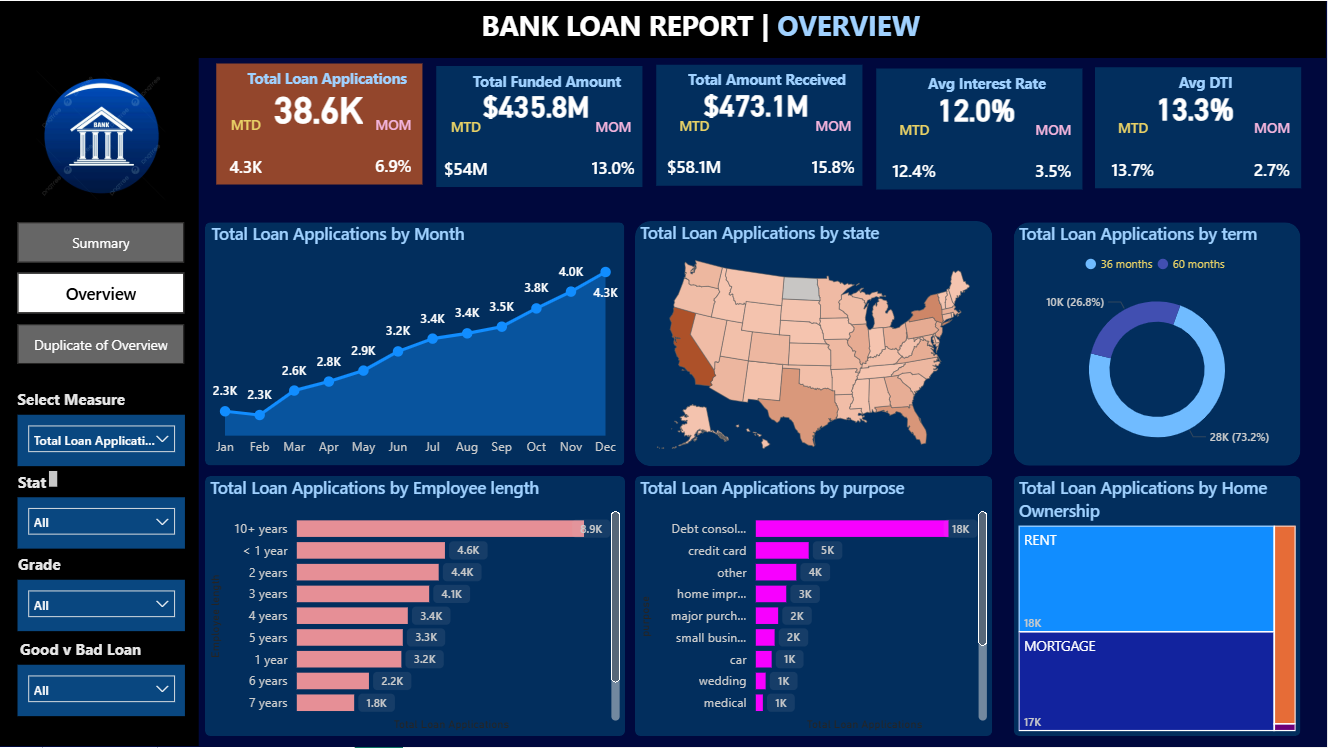

The dashboard page shown, as its layout file describes it:
{"tool":"powerbi","page":{"name":"Overview","canvas":[1280,720],"ordinal":1},"visuals":[{"type":"shape","box":[209.2,60.6,199.1,116.9],"z":0,"group":"g1"},{"type":"shape","box":[633.4,62.1,199.1,116.9],"z":0,"group":"g3"},{"type":"shape","box":[421.6,63.5,199.1,116.9],"z":0,"group":"g2"},{"type":"shape","box":[1056.7,64.2,199.1,116.9],"z":0,"group":"g5"},{"type":"shape","box":[845.2,65.4,199.1,116.9],"z":0,"group":"g4"},{"type":"shape","box":[197.9,213.5,405,235],"z":0},{"type":"shape","box":[0,0,1279.7,55],"z":1000},{"type":"cardVisual","fields":{"Data":["financial_loan.Total Loan Application"]},"box":[235.2,60.6,144.3,76.5],"z":1000,"group":"g1"},{"type":"cardVisual","fields":{"Data":["financial_loan.Total Amount Received"]},"box":[634.4,60.6,190.4,72.1],"z":1000,"group":"g3"},{"type":"cardVisual","fields":{"Data":["financial_loan.Total Funded Amount"]},"box":[422.6,62,190.4,72.1],"z":1000,"group":"g2"},{"type":"cardVisual","fields":{"Data":["financial_loan.Avg DTI"]},"box":[1057.7,62.7,190.4,72.1],"z":1000,"group":"g5"},{"type":"cardVisual","fields":{"Data":["financial_loan.AVG Interest Rate"]},"box":[846.2,63.9,190.4,72.1],"z":1000,"group":"g4"},{"type":"shape","box":[0,54.8,191.9,665.1],"z":2000},{"type":"textbox","box":[223.6,60.6,184.7,30.3],"z":2000,"group":"g1"},{"type":"textbox","box":[647.8,62.1,184.7,30.3],"z":2000,"group":"g3"},{"type":"textbox","box":[436,63.5,184.7,30.3],"z":2000,"group":"g2"},{"type":"textbox","box":[1071.1,64.2,184.7,30.3],"z":2000,"group":"g5"},{"type":"textbox","box":[859.6,65.4,184.7,30.3],"z":2000,"group":"g4"},{"type":"textbox","box":[459.7,0,480.2,47.1],"z":3000},{"type":"cardVisual","title":"MTD ","fields":{"Data":["financial_loan.MTD Loan Applications"]},"box":[199.1,109.7,76.5,77.9],"z":3000,"group":"g1"},{"type":"cardVisual","title":"MTD ","fields":{"Data":["financial_loan.MTD Total Amount Received"]},"box":[623.9,111.8,92.9,77.2],"z":3000,"group":"g3"},{"type":"cardVisual","title":"MTD ","fields":{"Data":["financial_loan.MTD Funded Amount"]},"box":[411.5,112.5,76.5,77.9],"z":3000,"group":"g2"},{"type":"cardVisual","title":"MTD ","fields":{"Data":["financial_loan.MTD Avg DTI"]},"box":[1047.2,113.9,92.9,77.2],"z":3000,"group":"g5"},{"type":"cardVisual","title":"MTD ","fields":{"Data":["financial_loan.MTD Avg Int Rate"]},"box":[835.7,115.1,92.9,77.2],"z":3000,"group":"g4"},{"type":"group","id":"g1","title":"Group 1","box":[199.1,60.6,219.3,127],"z":4000},{"type":"cardVisual","title":"MOM","fields":{"Data":["financial_loan.MOM Loan Application"]},"box":[341.9,109.7,76.5,66.4],"z":4000,"group":"g1"},{"type":"cardVisual","title":"MOM","fields":{"Data":["financial_loan.MOM Total Amount Received"]},"box":[766.1,111.1,76.5,66.4],"z":4000,"group":"g3"},{"type":"cardVisual","title":"MOM","fields":{"Data":["financial_loan.MOM Total Funded Amount"]},"box":[554.3,112.5,76.5,66.4],"z":4000,"group":"g2"},{"type":"cardVisual","title":"MOM","fields":{"Data":["financial_loan.MOM Avg DTI"]},"box":[1189.4,113.2,76.5,66.4],"z":4000,"group":"g5"},{"type":"cardVisual","title":"MOM","fields":{"Data":["financial_loan.MOM Avg Interest Rate"]},"box":[977.9,114.4,76.5,66.4],"z":4000,"group":"g4"},{"type":"group","id":"g2","title":"Group 1","box":[411.5,62,219.3,128.4],"z":5000},{"type":"group","id":"g3","title":"Group 1","box":[623.9,60.6,218.7,128.4],"z":6000},{"type":"group","id":"g4","title":"Group 1","box":[835.7,63.9,218.4,127.9],"z":7000},{"type":"group","id":"g5","title":"Group 1","box":[1047.2,62.7,218.4,127.9],"z":8000},{"type":"slicer","fields":{"Values":["financial_loan.address_state"]},"box":[16.9,479,161.7,49.5],"z":9000},{"type":"textbox","box":[9.7,448.8,50.7,30.2],"z":10000},{"type":"slicer","fields":{"Values":["financial_loan.grade"]},"box":[16.9,558.6,161.7,49.5],"z":11000},{"type":"slicer","fields":{"Values":["financial_loan.Good v Bad Loan"]},"box":[16.9,640.6,161.7,49.5],"z":12000},{"type":"textbox","box":[7.2,528.4,61.5,30.2],"z":13000},{"type":"textbox","box":[7.2,610.5,141.2,30.2],"z":14000},{"type":"areaChart","fields":{"Y":["financial_loan.Total Loan Applications"],"Category":["Date Table.Month"]},"box":[199.1,213.5,404,235.2],"z":15000},{"type":"slicer","fields":{"Values":["Select Measure.Select Measure"]},"box":[16.9,399.3,161.7,49.5],"z":16000},{"type":"textbox","box":[7.2,369.2,123.1,30.2],"z":17000},{"type":"shape","box":[613.2,212.1,344.8,236.6],"z":18000},{"type":"shapeMap","fields":{"Value":["financial_loan.Total Loan Applications"],"Category":["financial_loan.address_state"]},"box":[613.2,212.1,344.8,236.6],"z":19000},{"type":"shape","box":[978.2,213.5,277,235.2],"z":20000},{"type":"donutChart","fields":{"Y":["financial_loan.Total Loan Applications"],"Category":["financial_loan.term"]},"box":[978.2,213.5,277,235.2],"z":21000},{"type":"shape","box":[197.7,458.8,405.4,251],"z":22000},{"type":"barChart","fields":{"Y":["financial_loan.Total Loan Applications"],"Category":["financial_loan.emp_length"]},"box":[197.7,458.8,405.4,251],"z":23000},{"type":"shape","box":[978.2,458.8,277,251],"z":24000},{"type":"shape","box":[613.2,458.8,344.8,251],"z":25000},{"type":"clusteredBarChart","fields":{"Y":["financial_loan.Total Loan Applications"],"Category":["financial_loan.purpose"]},"box":[613.2,458.8,344.8,251],"z":26000},{"type":"treemap","fields":{"Values":["financial_loan.Total Loan Applications"],"Group":["financial_loan.home_ownership"]},"box":[978.2,458.8,277,251],"z":27000},{"type":"pageNavigator","box":[16.9,213.5,161.7,137.5],"z":28000},{"type":"image","box":[7.2,60.3,181,139.9],"z":29000}]}

Visuals, with their boxes on the page's 1280x720 design canvas (x1, y1, x2, y2). These are canvas units, not pixel positions in the 1328x748 screenshot, which may show the page scaled, cropped or inside an application window:
shape: [209,61,408,178]
shape: [633,62,832,179]
shape: [422,64,621,180]
shape: [1057,64,1256,181]
shape: [845,65,1044,182]
shape: [198,214,603,448]
shape: [0,0,1280,55]
cardVisual - financial_loan.Total Loan Application: [235,61,380,137]
cardVisual - financial_loan.Total Amount Received: [634,61,825,133]
cardVisual - financial_loan.Total Funded Amount: [423,62,613,134]
cardVisual - financial_loan.Avg DTI: [1058,63,1248,135]
cardVisual - financial_loan.AVG Interest Rate: [846,64,1037,136]
shape: [0,55,192,720]
textbox: [224,61,408,91]
textbox: [648,62,832,92]
textbox: [436,64,621,94]
textbox: [1071,64,1256,94]
textbox: [860,65,1044,96]
textbox: [460,0,940,47]
"MTD " cardVisual: [199,110,276,188]
"MTD " cardVisual: [624,112,717,189]
"MTD " cardVisual: [412,112,488,190]
"MTD " cardVisual: [1047,114,1140,191]
"MTD " cardVisual: [836,115,929,192]
"Group 1" group: [199,61,418,188]
"MOM" cardVisual: [342,110,418,176]
"MOM" cardVisual: [766,111,843,178]
"MOM" cardVisual: [554,112,631,179]
"MOM" cardVisual: [1189,113,1266,180]
"MOM" cardVisual: [978,114,1054,181]
"Group 1" group: [412,62,631,190]
"Group 1" group: [624,61,843,189]
"Group 1" group: [836,64,1054,192]
"Group 1" group: [1047,63,1266,191]
slicer - financial_loan.address_state: [17,479,179,528]
textbox: [10,449,60,479]
slicer - financial_loan.grade: [17,559,179,608]
slicer - financial_loan.Good v Bad Loan: [17,641,179,690]
textbox: [7,528,69,559]
textbox: [7,610,148,641]
areaChart - financial_loan.Total Loan Applications x Date Table.Month: [199,214,603,449]
slicer - Select Measure.Select Measure: [17,399,179,449]
textbox: [7,369,130,399]
shape: [613,212,958,449]
shapeMap - financial_loan.Total Loan Applications x financial_loan.address_state: [613,212,958,449]
shape: [978,214,1255,449]
donutChart - financial_loan.Total Loan Applications x financial_loan.term: [978,214,1255,449]
shape: [198,459,603,710]
barChart - financial_loan.Total Loan Applications x financial_loan.emp_length: [198,459,603,710]
shape: [978,459,1255,710]
shape: [613,459,958,710]
clusteredBarChart - financial_loan.Total Loan Applications x financial_loan.purpose: [613,459,958,710]
treemap - financial_loan.Total Loan Applications x financial_loan.home_ownership: [978,459,1255,710]
pageNavigator: [17,214,179,351]
image: [7,60,188,200]
